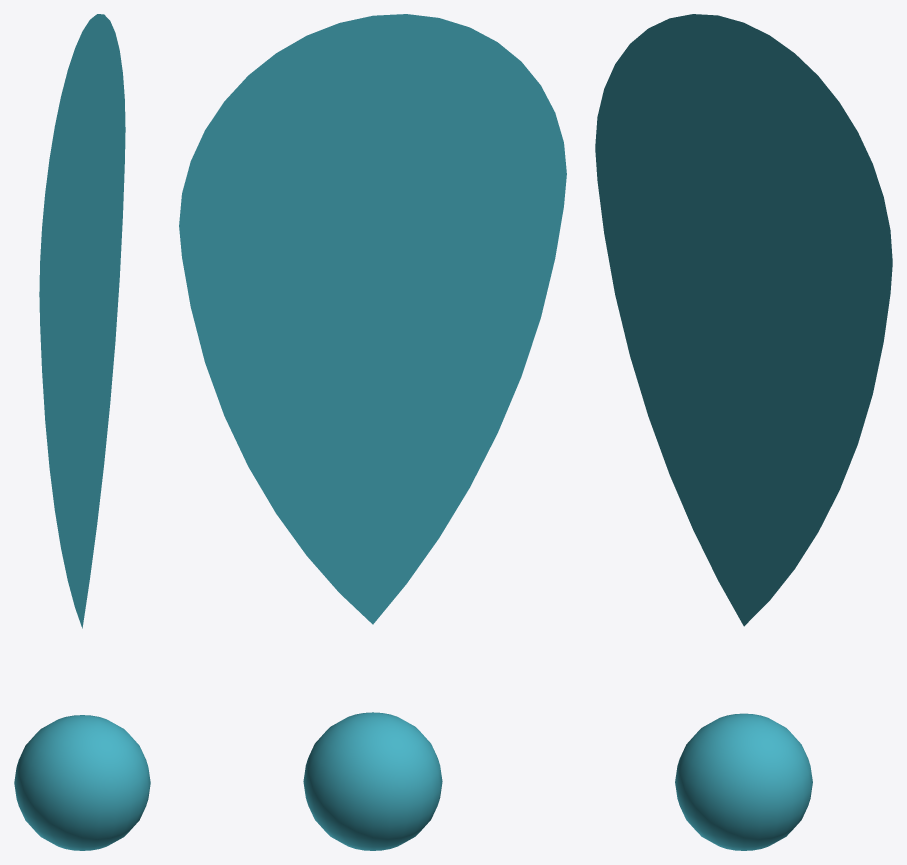
File: pin_model.obj
3 renders of one model, left to right at view 1: azimuth 30°, elevation 25°; view 2: azimuth 150°, elevation 25°; view 3: azimuth 270°, elevation 25°, orthographic.
Parts seen in each view (by area): view 1: pin, boal; view 2: pin, boal; view 3: pin, boal.
Boxes of the visible parts, x1,y1,x2,y2 form: pin: [39, 14, 125, 628]; boal: [14, 715, 150, 850]; pin: [179, 14, 566, 624]; boal: [303, 712, 442, 850]; pin: [595, 14, 892, 626]; boal: [675, 713, 812, 850].
Size of what is drawn, in the model's own units: 8.78 by 29.23 by 9.59.
